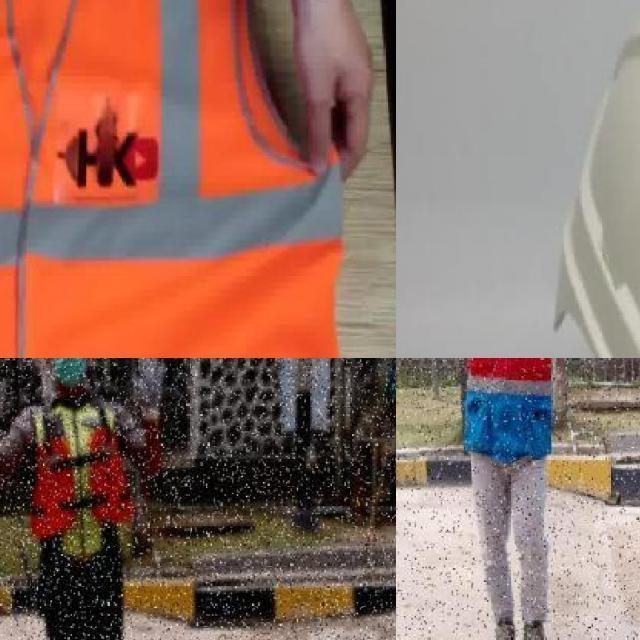apron: (131, 358, 166, 424)
